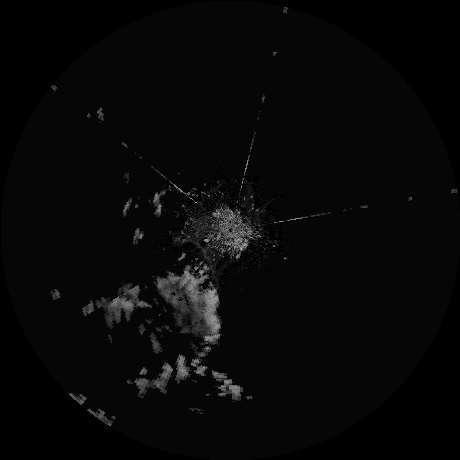frontgust: (179, 240, 218, 289)
